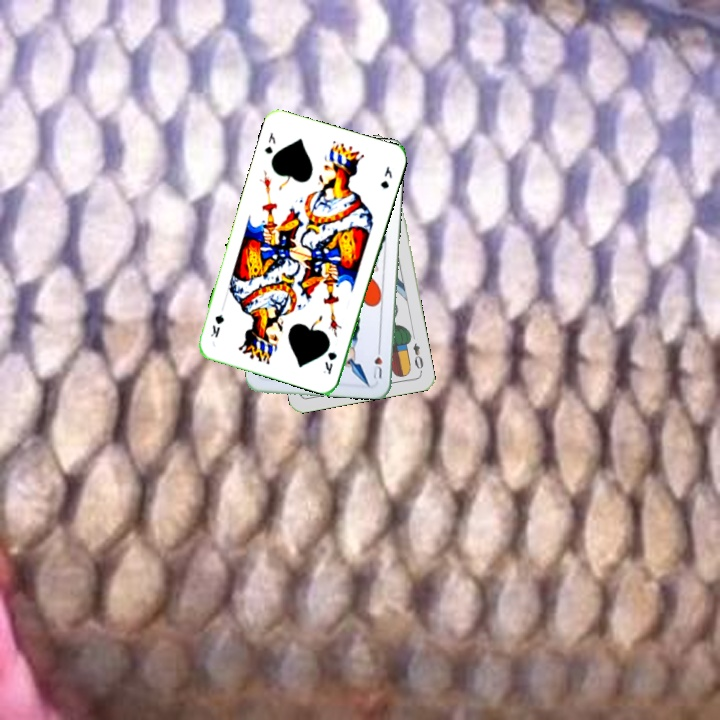EO: (409, 339, 426, 375)
GK: (319, 346, 339, 377), (260, 129, 278, 156)
HU: (369, 342, 385, 382)
